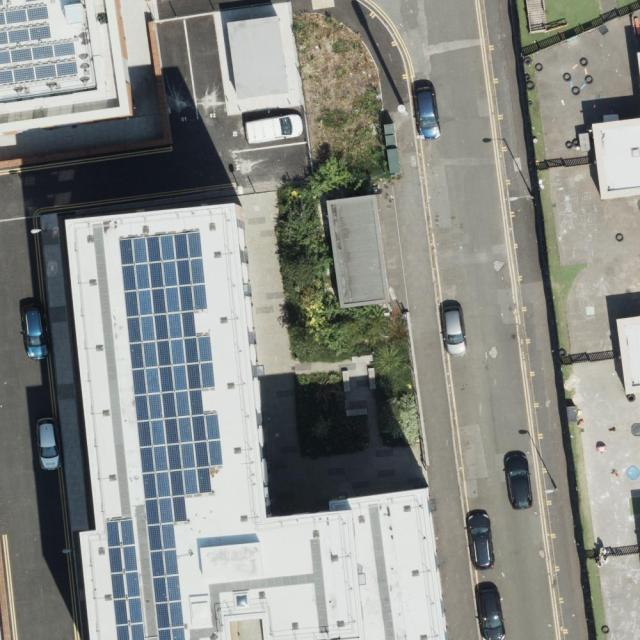roof: (64, 200, 447, 640), (0, 0, 132, 129), (323, 193, 387, 310), (227, 16, 288, 100), (590, 116, 640, 202), (616, 317, 640, 395)
skylight: (234, 590, 249, 610)
solar: (120, 229, 223, 640), (106, 518, 145, 640), (1, 42, 75, 64), (0, 63, 77, 84), (0, 3, 49, 27), (0, 25, 52, 45)
